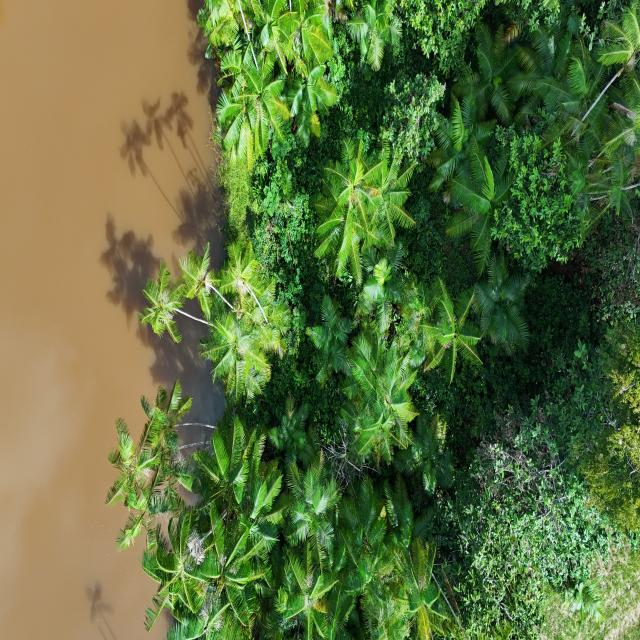vegetation: (104, 1, 638, 638)
